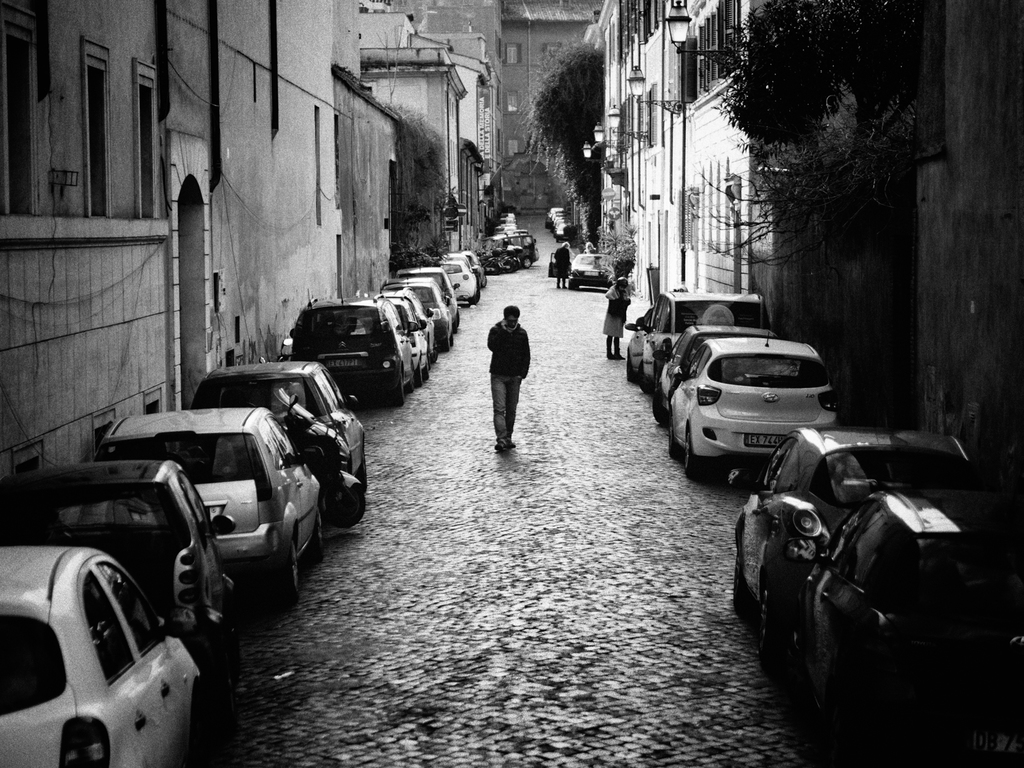cars: (0, 251, 484, 767), (803, 487, 1020, 750), (738, 425, 973, 660), (0, 542, 204, 766), (94, 408, 322, 598), (22, 459, 230, 648), (661, 326, 839, 484), (192, 360, 367, 493), (289, 294, 406, 408), (661, 319, 780, 427), (655, 287, 773, 386), (385, 277, 451, 346), (378, 284, 433, 357), (396, 266, 455, 328), (482, 210, 538, 267), (397, 301, 425, 384), (567, 250, 617, 286), (623, 309, 648, 373), (432, 261, 472, 299), (447, 250, 481, 292), (548, 206, 570, 241)
